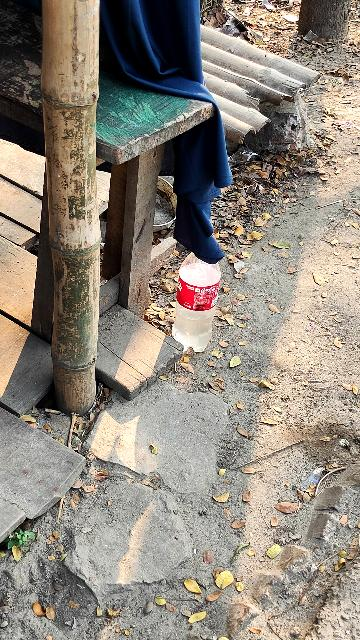bottle: (172, 239, 236, 361)
